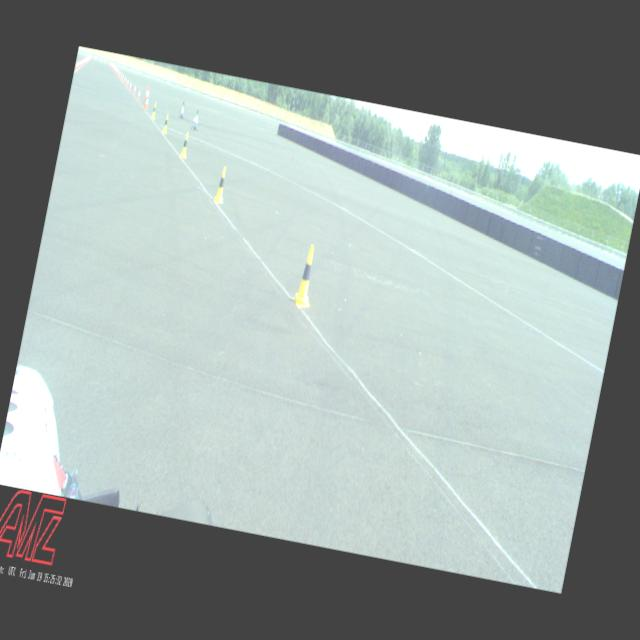large_orange_cone: (144, 87, 152, 110), (142, 85, 150, 108)
orange_cone: (136, 88, 142, 101), (132, 84, 138, 95), (129, 80, 133, 90), (74, 62, 78, 72), (76, 60, 80, 70), (78, 58, 82, 68), (126, 78, 130, 87), (119, 71, 123, 80), (80, 58, 84, 67), (123, 76, 127, 84), (114, 66, 118, 74), (122, 72, 125, 82), (82, 59, 86, 66), (118, 70, 121, 78), (117, 68, 120, 76), (114, 66, 116, 73), (100, 58, 102, 64), (116, 68, 118, 74), (95, 56, 97, 61), (105, 60, 107, 64), (84, 60, 85, 64), (85, 60, 86, 64)
yellow_cone: (291, 243, 321, 310), (213, 166, 230, 204), (179, 132, 192, 160), (162, 114, 170, 134), (150, 102, 158, 119), (142, 95, 148, 108)
